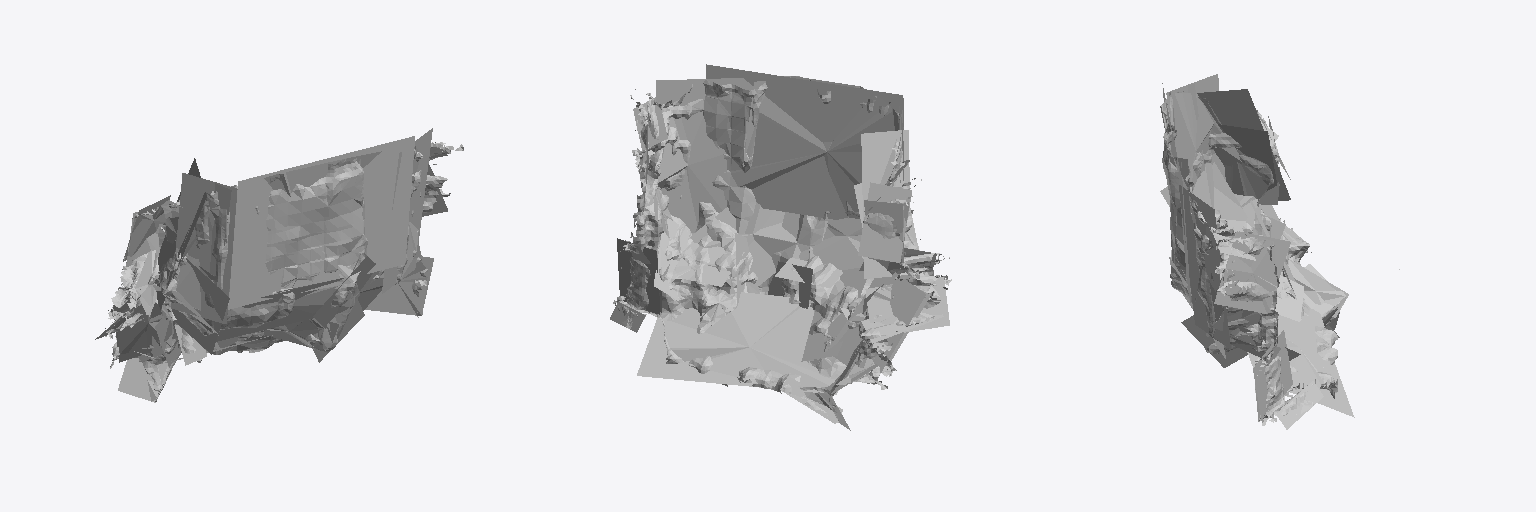
File: Model_cld.obj
3 renders of one model, left to right at view 1: azimuth 30°, elevation 25°; view 2: azimuth 150°, elevation 25°; view 3: azimuth 270°, elevation 25°, orthographic.
Visible parts, largest first — view 1: PlaneBBCollider_Vertical_Area_3.459297_Normal_0.020433_0.058909_, PlaneMeshCollider_Vertical_Area_2.974198_Normal_0.020433_0.05890, PlaneBBCollider_Vertical_Area_1.047270_Normal_-0.833683_0.013978, PlaneConvexCollider_Vertical_Area_2.974198_Normal_0.020433_0.058, PlaneConvexCollider_Vertical_Area_0.428633_Normal_-0.496275_0.09, PlaneBBCollider_Vertical_Area_1.243443_Normal_0.577289_0.161734_, PlaneBBCollider_Area_0.656820_Normal_-0.883028_0.322760_-0.34071, PlaneBBCollider_Area_0.867145_Normal_-0.132430_0.531620_-0.83656, PlaneMeshCollider_Vertical_Area_0.821812_Normal_-0.833683_0.0139, PlaneBBCollider_Area_0.190850_Normal_-0.590848_-0.333166_-0.7347, PlaneBBCollider_Area_0.905041_Normal_0.307441_0.489189_-0.816195, PlaneMeshCollider_Area_0.712653_Normal_-0.132430_0.531620_-0.836 (+11 smaller); view 2: PlaneConvexCollider_Area_1.723656_Normal_0.050881_0.892924_-0.44, PlaneBBCollider_Vertical_Area_3.459297_Normal_0.020433_0.058909_, PlaneConvexCollider_Vertical_Area_2.974198_Normal_0.020433_0.058, PlaneConvexCollider_Vertical_Area_0.794555_Normal_0.577289_0.161, PlaneMeshCollider_49, PlaneBBCollider_Vertical_Area_1.243443_Normal_0.577289_0.161734_, PlaneBBCollider_Area_1.038159_Normal_-0.967759_-0.175489_0.18068, PlaneBBCollider_Area_0.731862_Normal_-0.034913_0.477813_-0.87776, PlaneMeshCollider_Vertical_Area_2.974198_Normal_0.020433_0.05890, PlaneBBCollider_Area_2.640393_Normal_0.050881_0.892924_-0.447324, PlaneMeshCollider_42, PlaneConvexCollider_Area_0.712653_Normal_-0.132430_0.531620_-0.8 (+28 smaller); view 3: PlaneBBCollider_Vertical_Area_1.243443_Normal_0.577289_0.161734_, PlaneConvexCollider_Area_1.723656_Normal_0.050881_0.892924_-0.44, PlaneConvexCollider_Vertical_Area_0.821812_Normal_-0.833683_0.01, PlaneBBCollider_Area_1.038159_Normal_-0.967759_-0.175489_0.18068, PlaneConvexCollider_Area_0.418757_Normal_0.804900_-0.186585_0.56, PlaneConvexCollider_Area_0.475369_Normal_-0.883028_0.322760_-0.3, PlaneBBCollider_Area_0.586810_Normal_0.804900_-0.186585_0.563313, PlaneMeshCollider_42, PlaneBBCollider_Area_0.577963_Normal_-0.893915_-0.344680_0.28655, PlaneConvexCollider_Area_0.631940_Normal_-0.967759_-0.175489_0.1, PlaneBBCollider_Vertical_Area_0.532606_Normal_-0.496275_0.091841, PlaneConvexCollider_Area_0.173866_Normal_-0.791732_0.543858_-0.2 (+11 smaller).
Boxes of the visible parts, box(x1,y1,x2,y2) form: PlaneBBCollider_Vertical_Area_3.459297_Normal_0.020433_0.058909_: box(228, 136, 414, 309); PlaneMeshCollider_Vertical_Area_2.974198_Normal_0.020433_0.05890: box(255, 158, 367, 292); PlaneBBCollider_Vertical_Area_1.047270_Normal_-0.833683_0.013978: box(171, 173, 237, 323); PlaneConvexCollider_Vertical_Area_2.974198_Normal_0.020433_0.058: box(264, 151, 381, 292); PlaneConvexCollider_Vertical_Area_0.428633_Normal_-0.496275_0.09: box(366, 260, 427, 315); PlaneBBCollider_Vertical_Area_1.243443_Normal_0.577289_0.161734_: box(382, 128, 432, 293); PlaneBBCollider_Area_0.656820_Normal_-0.883028_0.322760_-0.34071: box(172, 258, 229, 354); PlaneBBCollider_Area_0.867145_Normal_-0.132430_0.531620_-0.83656: box(216, 278, 343, 341); PlaneMeshCollider_Vertical_Area_0.821812_Normal_-0.833683_0.0139: box(171, 185, 237, 307); PlaneBBCollider_Area_0.190850_Normal_-0.590848_-0.333166_-0.7347: box(118, 358, 167, 402); PlaneBBCollider_Area_0.905041_Normal_0.307441_0.489189_-0.816195: box(313, 256, 381, 328); PlaneMeshCollider_Area_0.712653_Normal_-0.132430_0.531620_-0.836: box(221, 280, 343, 329); PlaneConvexCollider_Area_1.723656_Normal_0.050881_0.892924_-0.44: box(658, 290, 835, 386); PlaneBBCollider_Vertical_Area_3.459297_Normal_0.020433_0.058909_: box(706, 64, 903, 219); PlaneConvexCollider_Vertical_Area_2.974198_Normal_0.020433_0.058: box(707, 76, 892, 218); PlaneConvexCollider_Vertical_Area_0.794555_Normal_0.577289_0.161: box(657, 101, 726, 225); PlaneMeshCollider_49: box(659, 202, 780, 312); PlaneBBCollider_Vertical_Area_1.243443_Normal_0.577289_0.161734_: box(656, 79, 706, 232); PlaneBBCollider_Area_1.038159_Normal_-0.967759_-0.175489_0.18068: box(861, 130, 909, 278); PlaneBBCollider_Area_0.731862_Normal_-0.034913_0.477813_-0.87776: box(833, 272, 925, 384); PlaneMeshCollider_Vertical_Area_2.974198_Normal_0.020433_0.05890: box(706, 76, 888, 216); PlaneBBCollider_Area_2.640393_Normal_0.050881_0.892924_-0.447324: box(637, 318, 838, 394); PlaneMeshCollider_42: box(630, 89, 697, 206); PlaneConvexCollider_Area_0.712653_Normal_-0.132430_0.531620_-0.8: box(799, 218, 863, 269); PlaneBBCollider_Vertical_Area_1.243443_Normal_0.577289_0.161734_: box(1179, 185, 1230, 349); PlaneConvexCollider_Area_1.723656_Normal_0.050881_0.892924_-0.44: box(1278, 307, 1330, 390); PlaneConvexCollider_Vertical_Area_0.821812_Normal_-0.833683_0.01: box(1172, 92, 1214, 192); PlaneBBCollider_Area_1.038159_Normal_-0.967759_-0.175489_0.18068: box(1197, 89, 1290, 200); PlaneConvexCollider_Area_0.418757_Normal_0.804900_-0.186585_0.56: box(1226, 231, 1276, 311); PlaneConvexCollider_Area_0.475369_Normal_-0.883028_0.322760_-0.3: box(1192, 163, 1247, 232); PlaneBBCollider_Area_0.586810_Normal_0.804900_-0.186585_0.563313: box(1214, 231, 1290, 313); PlaneMeshCollider_42: box(1196, 210, 1279, 303); PlaneBBCollider_Area_0.577963_Normal_-0.893915_-0.344680_0.28655: box(1218, 124, 1276, 190); PlaneConvexCollider_Area_0.631940_Normal_-0.967759_-0.175489_0.1: box(1200, 96, 1272, 200); PlaneBBCollider_Vertical_Area_0.532606_Normal_-0.496275_0.091841: box(1253, 330, 1292, 422); PlaneConvexCollider_Area_0.173866_Normal_-0.791732_0.543858_-0.2: box(1288, 259, 1345, 309).
Bounding box in the file's own units: 4.17 × 3.16 × 2.52.